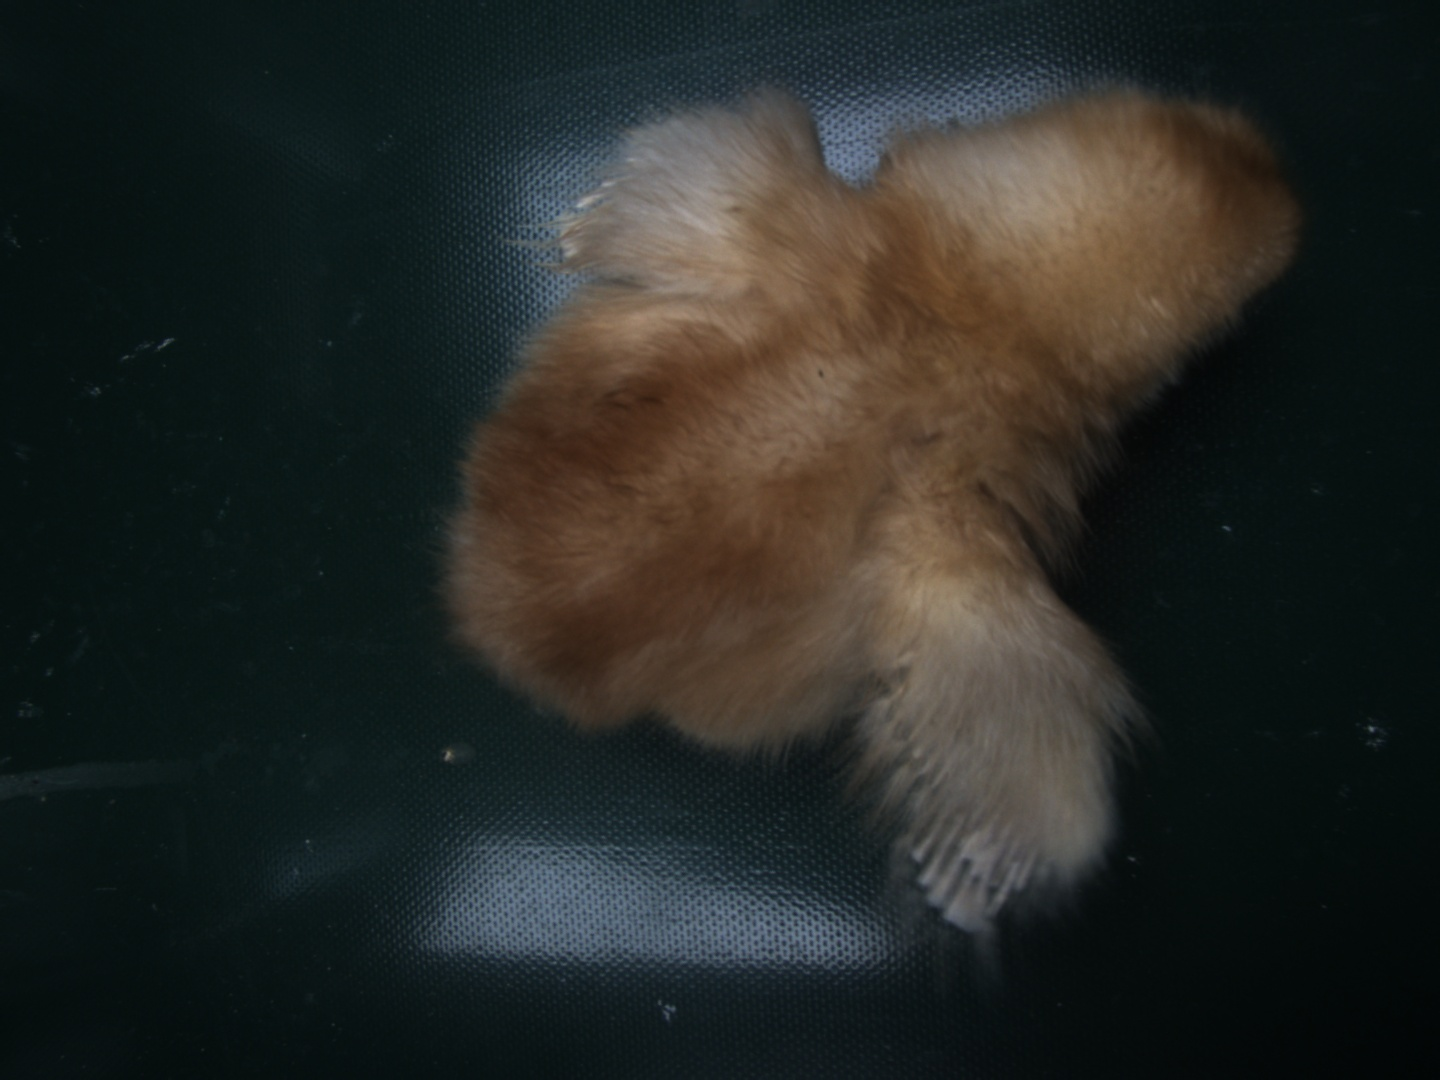female: (907, 813, 1044, 938)
